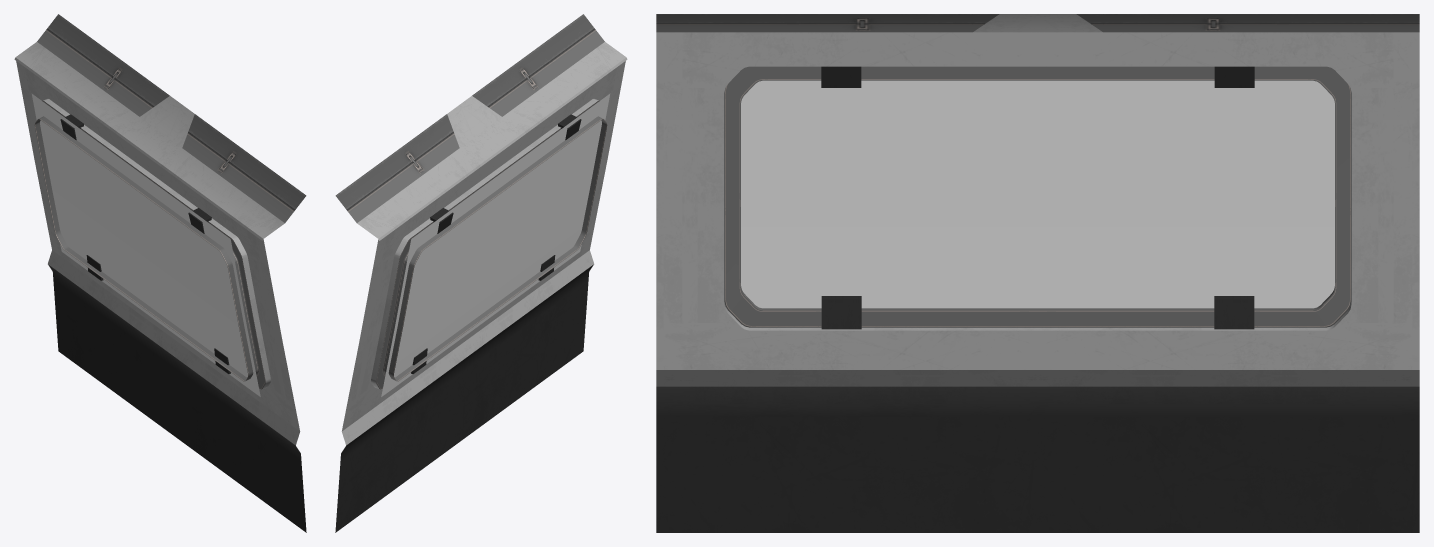
File: S_WallAstraStraightWindow.gltf
3 views of the same model, side by side, from view 1: azimuth 30°, elevation 25°; view 2: azimuth 150°, elevation 25°; view 3: azimuth 270°, elevation 25° (orthographic). The views are drawn at different scales.
Parts seen in each view (by area): view 1: Plane_157-col; view 2: Plane_157-col; view 3: Plane_157-col.
Part boxes in pixels (box(x1,y1,x2,y2)): Plane_157-col: box(14, 14, 306, 532); Plane_157-col: box(335, 14, 627, 532); Plane_157-col: box(656, 14, 1419, 532).
Size of the model in its own units: 0.4975 by 3 by 4.
Materials: 5 (4 with a texture image).
